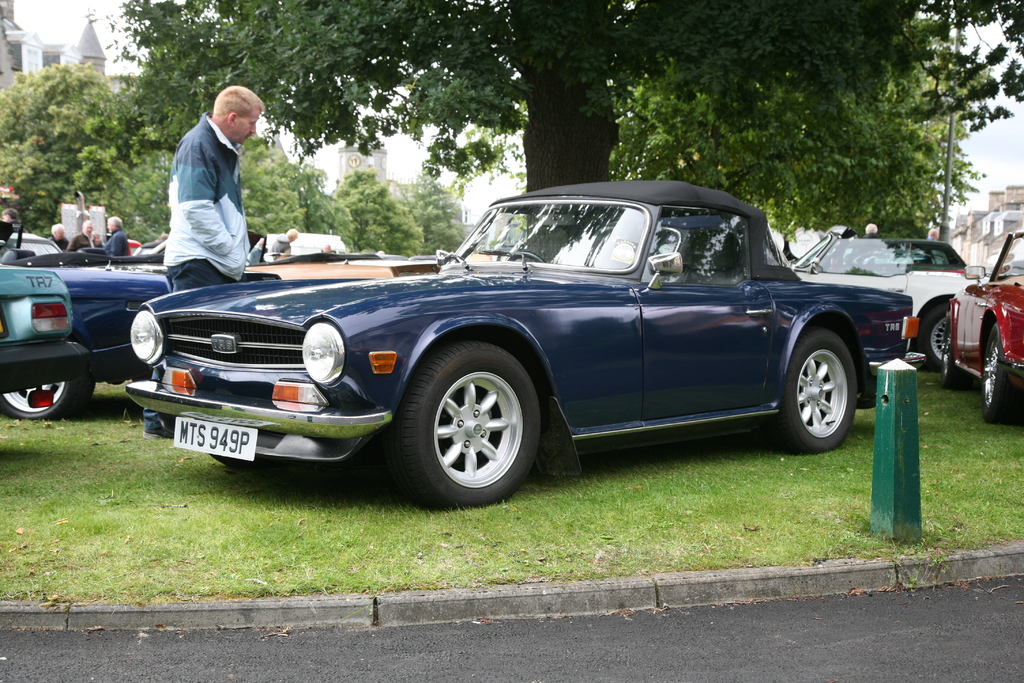Tree: (0, 0, 1023, 268)
